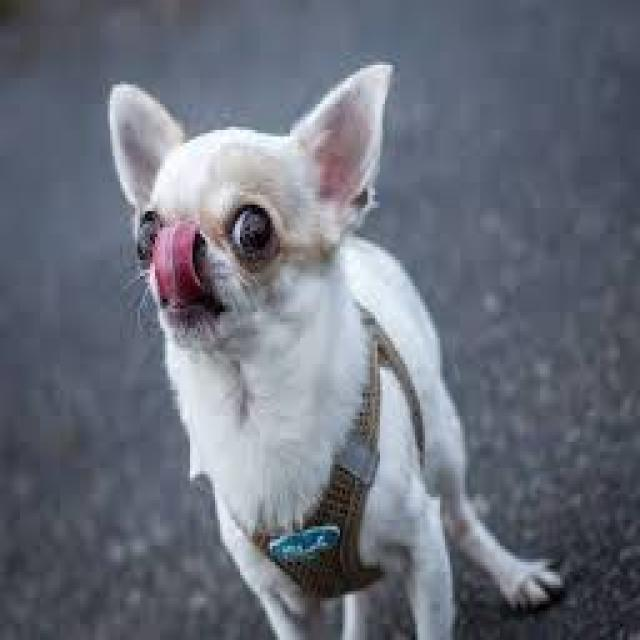Chihuahua: (110, 63, 563, 640)
